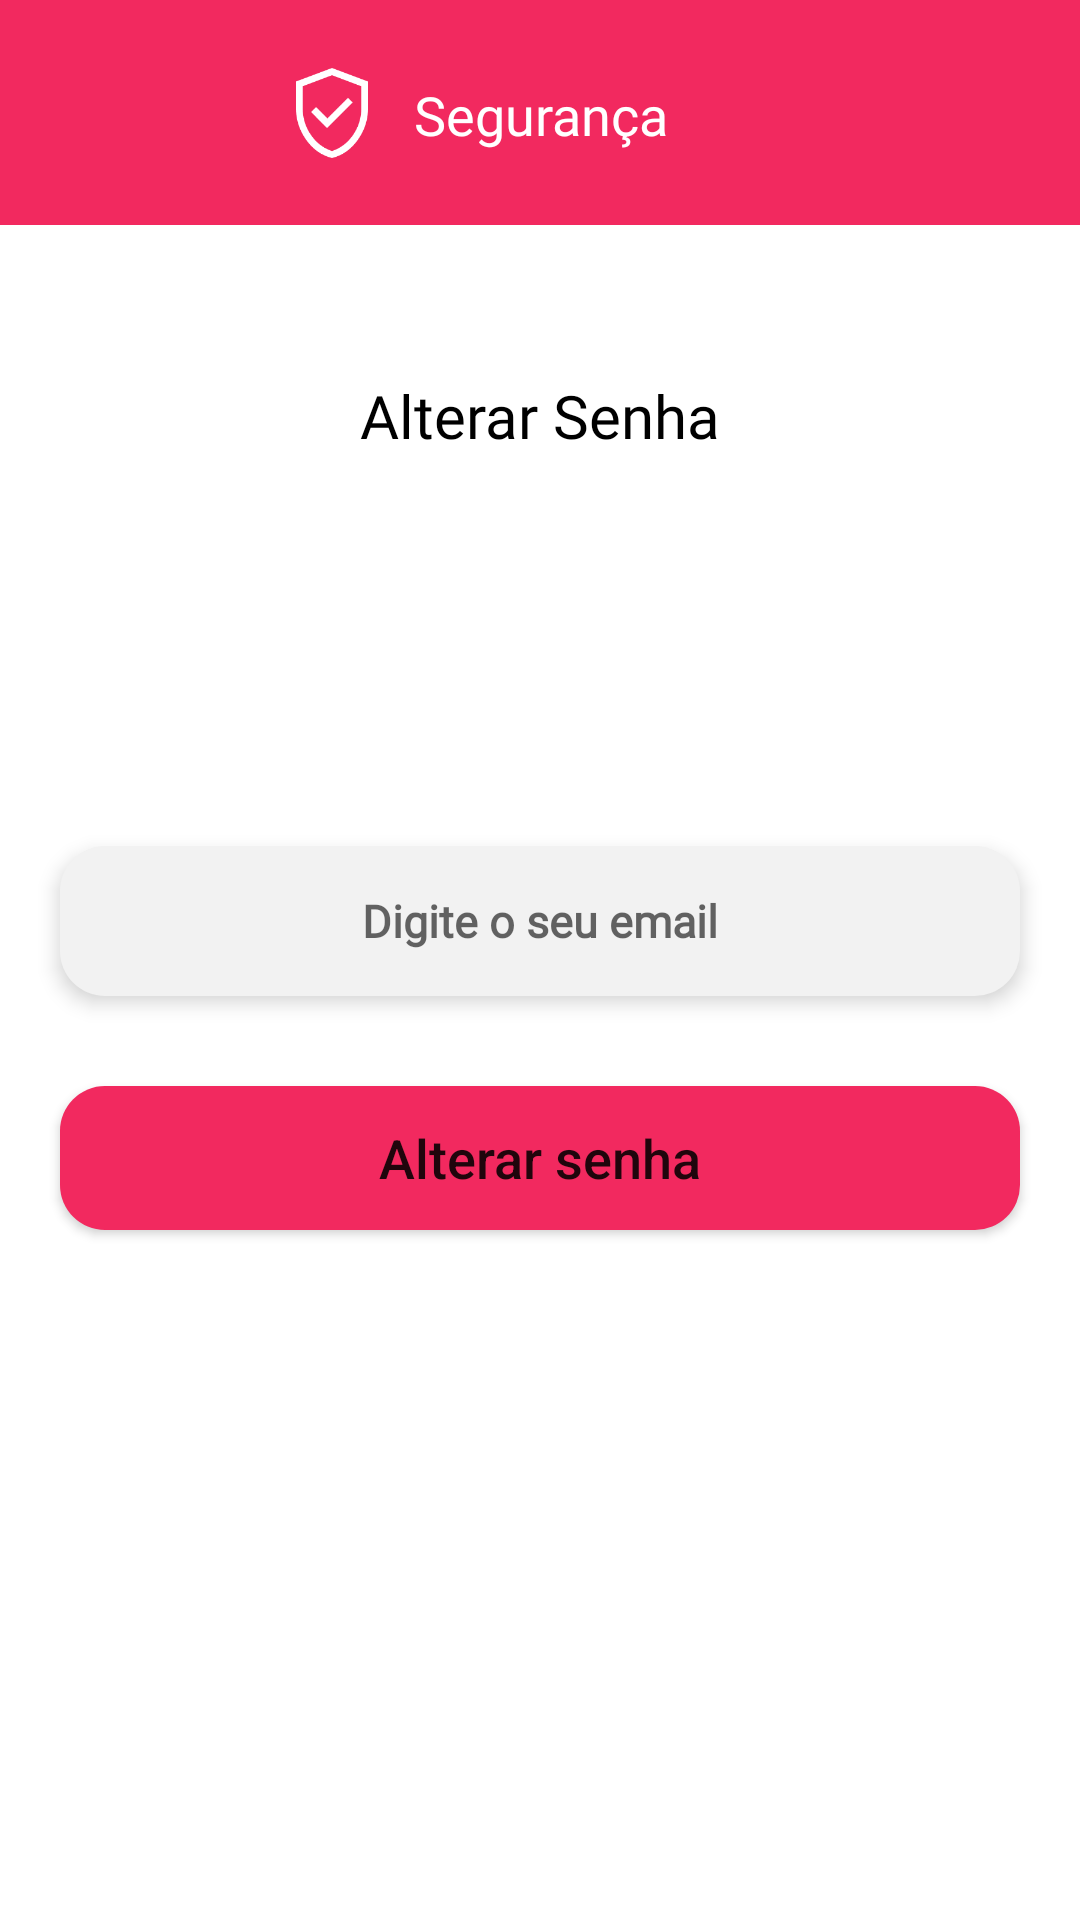

Screen size 1080px×1920px. Icon name, then its box in pixels as {"left": x1, "top": y1, "right": x2, "bottom": y2}:
security branco: {"left": 296, "top": 68, "right": 368, "bottom": 158}
